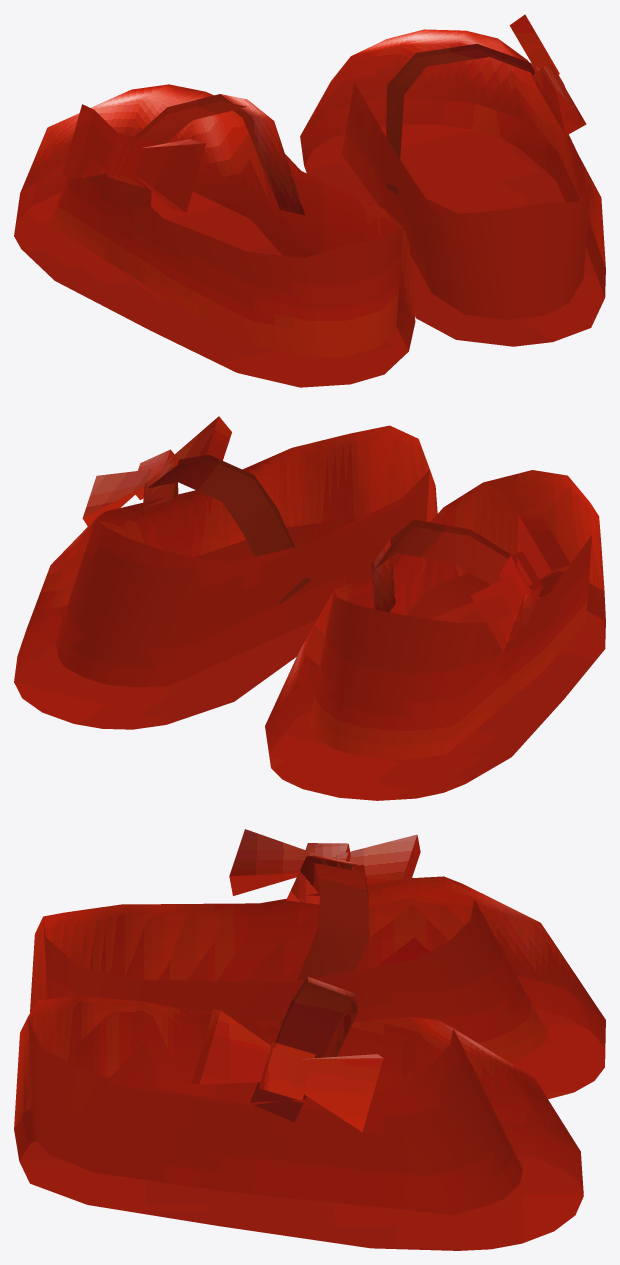
The model's file is ps2_save-icons_kaerazunomori.glb.
3 renders of one model, top to bottom at view 1: azimuth 30°, elevation 25°; view 2: azimuth 150°, elevation 25°; view 3: azimuth 270°, elevation 25°, orthographic. The views are drawn at different scales.
Parts seen in each view (by area): view 1: icondata.0; view 2: icondata.0; view 3: icondata.0.
Part boxes in pixels (box(x1,y1,x2,y2)): icondata.0: box(14, 14, 605, 387); icondata.0: box(14, 416, 605, 800); icondata.0: box(14, 829, 605, 1250).
Size of the model in its own units: 4.75 by 1.75 by 4.7.
Materials: 1 (1 with a texture image).
